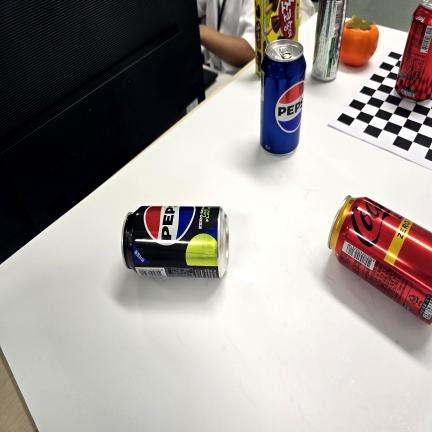can_coke_decaf: (328, 196, 432, 324)
can_coke_zero: (395, 0, 432, 103)
can_pepsi: (260, 39, 306, 156)
can_pepsi_zero: (121, 205, 229, 278)
